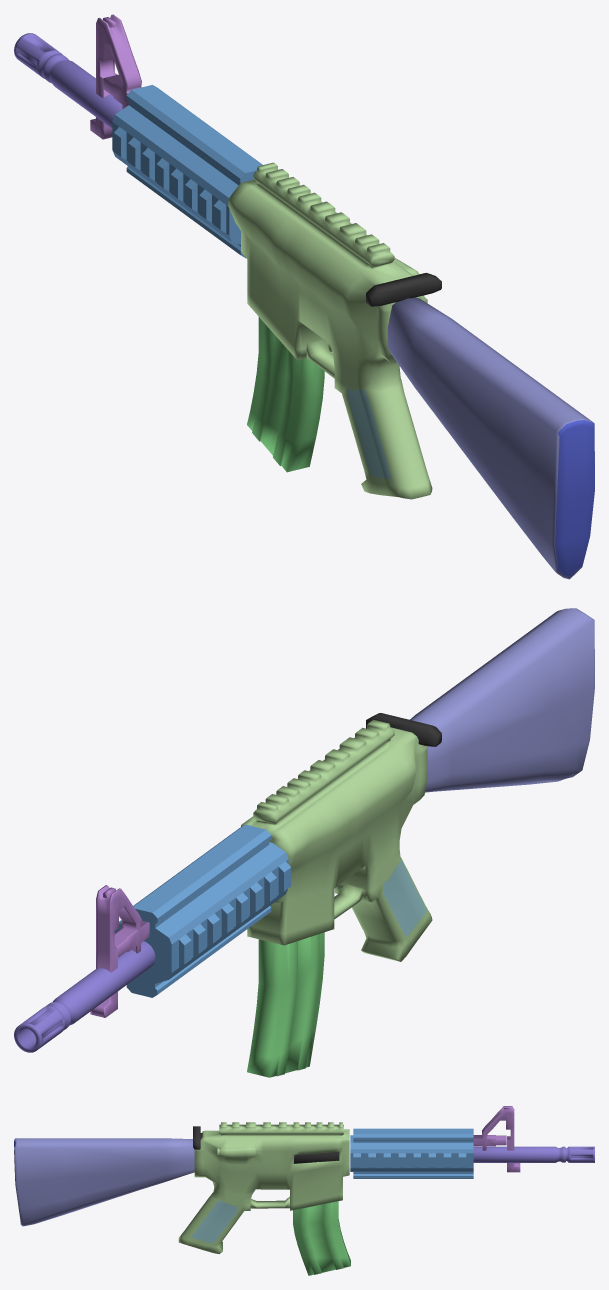
3 renders of one model, top to bottom at view 1: azimuth 30°, elevation 25°; view 2: azimuth 150°, elevation 25°; view 3: azimuth 270°, elevation 25°, orthographic. The views are drawn at different scales.
Visible parts, largest first — view 1: Plane_001, Cube, Plane, Cube_003, Cylinder_001, Cube_001, Cube_002; view 2: Plane_001, Cube, Plane, Cube_003, Cylinder_001, Cube_001, Cube_002; view 3: Plane_001, Cube, Plane, Cube_003, Cylinder_001, Cube_001, Cube_002.
Boxes of the visible parts, x1,y1,x2,y2 form: Plane_001: (228,162,432,499); Cube: (387,297,594,579); Plane: (112,85,262,258); Cube_003: (247,317,324,472); Cylinder_001: (14,33,122,128); Cube_001: (90,14,141,139); Cube_002: (366,272,441,306); Plane_001: (241,719,432,961); Cube: (410,608,594,792); Plane: (114,824,291,997); Cube_003: (247,932,324,1077); Cylinder_001: (14,941,155,1052); Cube_001: (90,885,149,1017); Cube_002: (366,713,441,746); Plane_001: (178,1122,349,1253); Cube: (14,1138,194,1226); Plane: (350,1128,473,1178); Cube_003: (293,1201,350,1275); Cylinder_001: (473,1146,594,1162); Cube_001: (473,1106,520,1172); Cube_002: (193,1126,339,1163).
Size of the model in its own units: 2.99 by 38.63 by 12.1.
